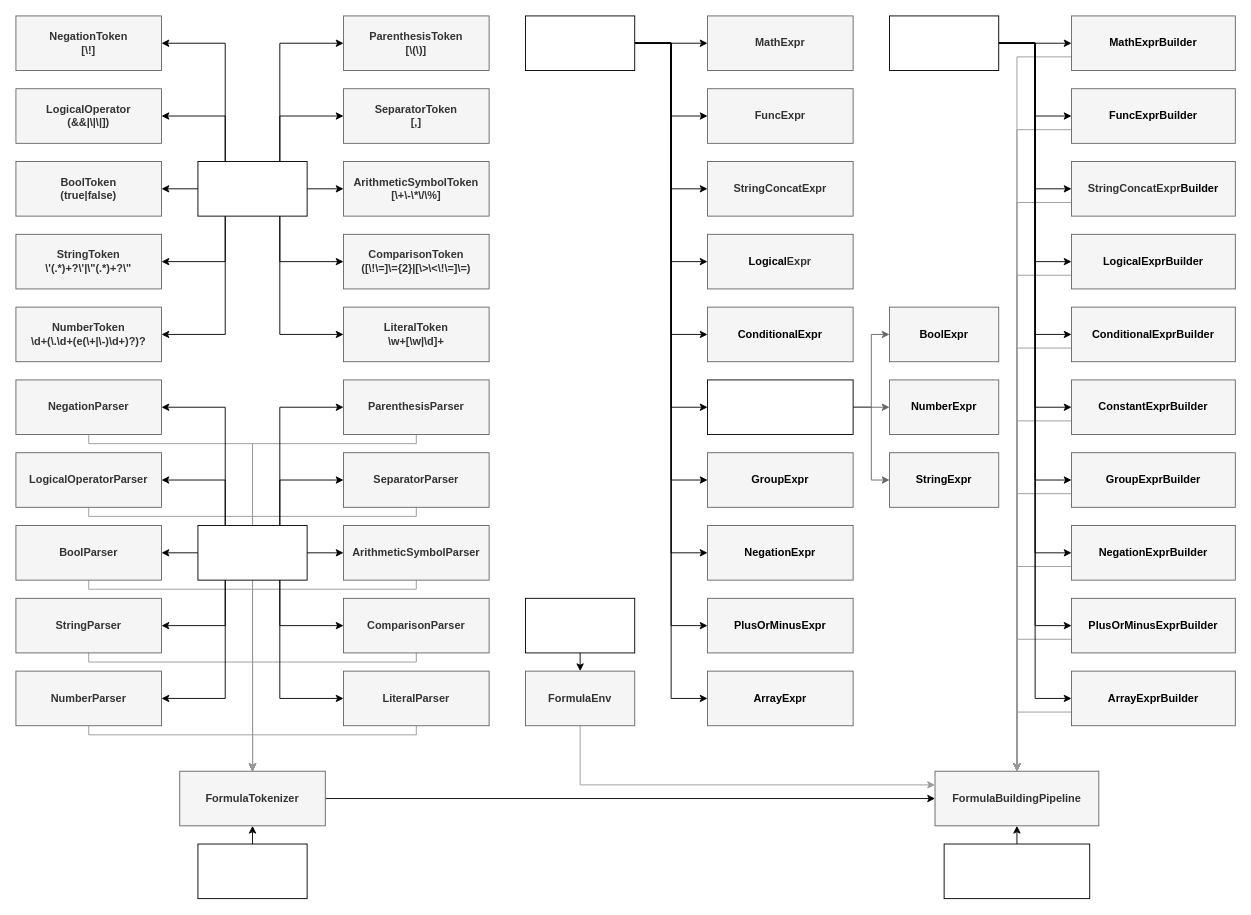
This 1251x915 diagram has some shape labels left out. Here are the shapes that lost their labels. From the top down, the box of each, then its label:
(525, 15, 635, 71): Expr
(889, 15, 999, 71): ExprBuilder
(197, 161, 307, 216): Token
(707, 379, 853, 435): ConstantExpr
(197, 525, 307, 580): Parser
(525, 597, 635, 653): IEnv
(197, 843, 307, 899): Tokenizer
(943, 843, 1090, 899): BuildingPipeline
